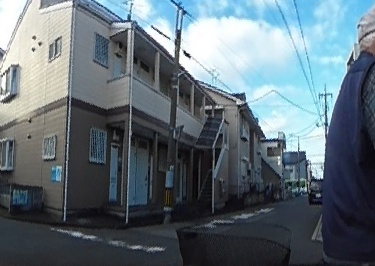person: (329, 4, 375, 261)
